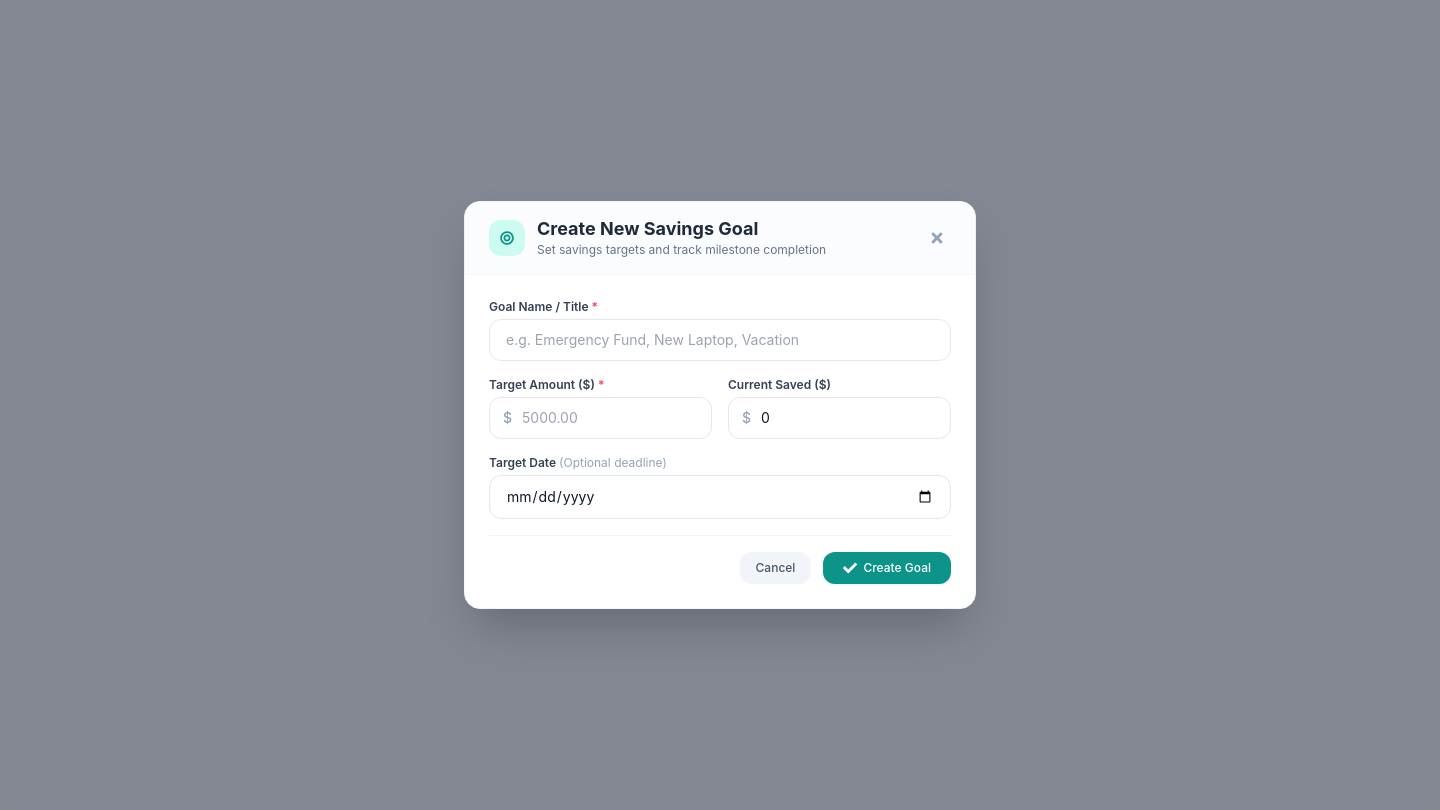
Test: GoalModal Component › validates required fields in Create mode
Click the button with test id "goal-modal-submit-button": [887, 568] box x1=823 y1=552 x2=951 y2=584
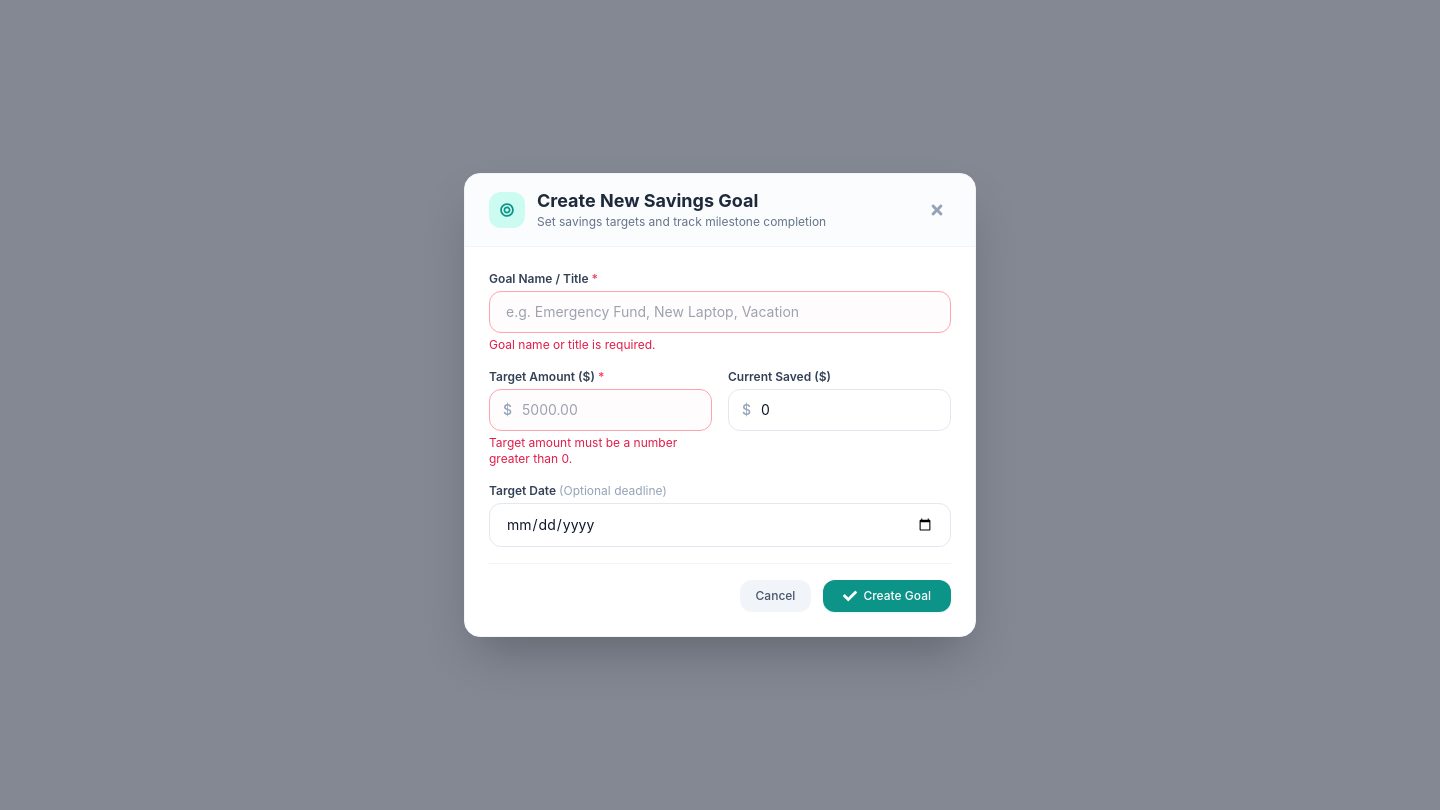
Result: the text "Goal name or title is required." is shown at x1=489 y1=337 x2=656 y2=352
Result: the text "Target amount must be a number greater than 0." is shown at x1=489 y1=435 x2=677 y2=466
